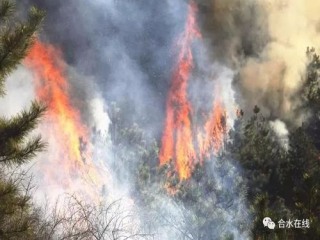fire: (158, 6, 234, 187), (21, 40, 99, 183)
smoke: (239, 4, 318, 106), (92, 88, 123, 145), (262, 114, 300, 160)
